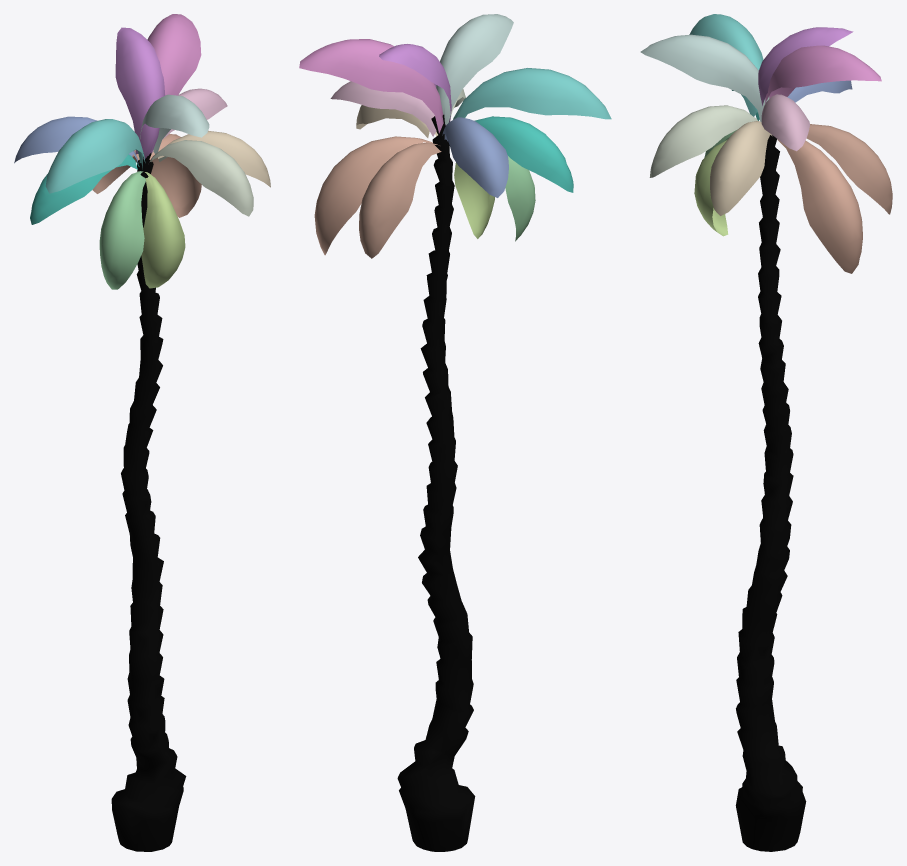
Rendered from TreeE.fbx.
3 renders of one model, left to right at view 1: azimuth 30°, elevation 25°; view 2: azimuth 150°, elevation 25°; view 3: azimuth 270°, elevation 25°, orthographic. The views are drawn at different scales.
Visible parts, largest first — view 1: S_Palm_E.001; view 2: S_Palm_E.001; view 3: S_Palm_E.001.
Part boxes in pixels (x1=…): S_Palm_E.001: x1=14, y1=14, x2=270, y2=851; S_Palm_E.001: x1=299, y1=14, x2=611, y2=851; S_Palm_E.001: x1=640, y1=14, x2=892, y2=851.
Bounding box in the file's own units: 1140 × 3669 × 1025.
